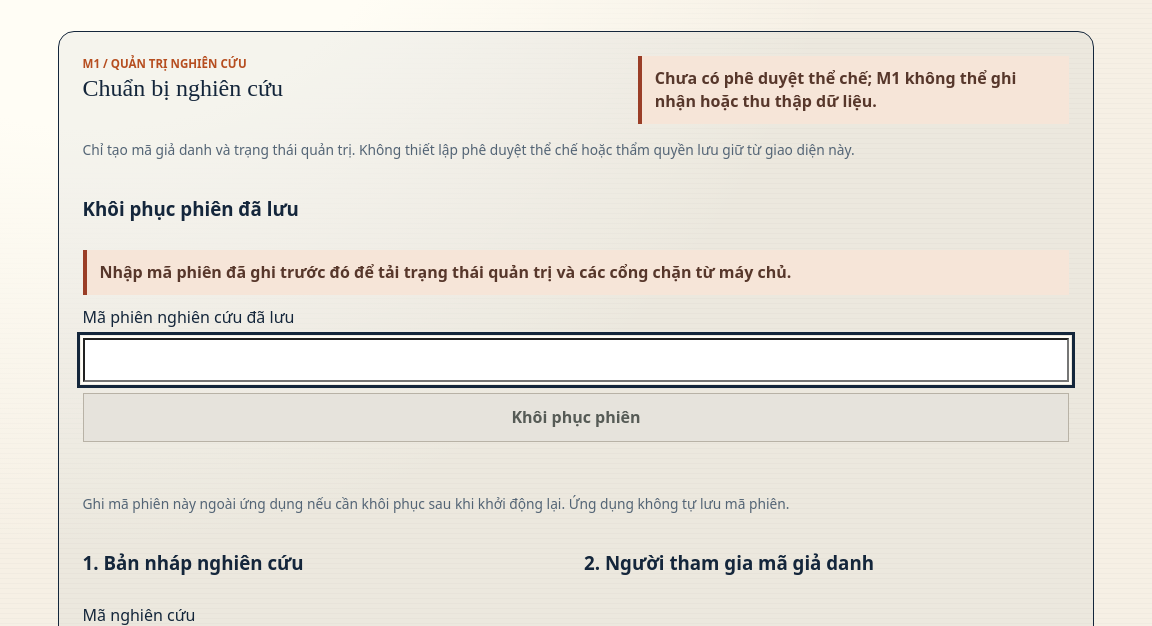
M1 persisted research-session recovery › rehydrates a saved opaque session after a fresh remount without browser persistence
(page scrolled)
Type "research-oDUliIaM2hjS_xIg" into the field labelled "Mã phiên nghiên cứu đã lưu". click: (576, 360)
box: [83,338,1069,382]
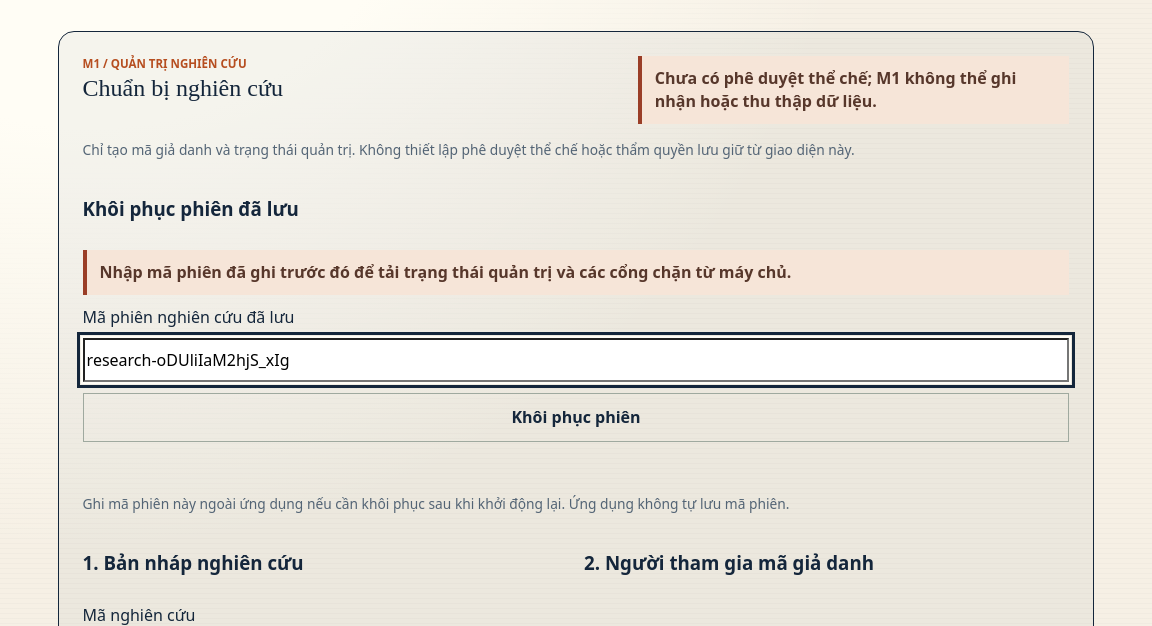
Click the button "Khôi phục phiên". click: click(576, 417)
box: [83,393,1069,442]
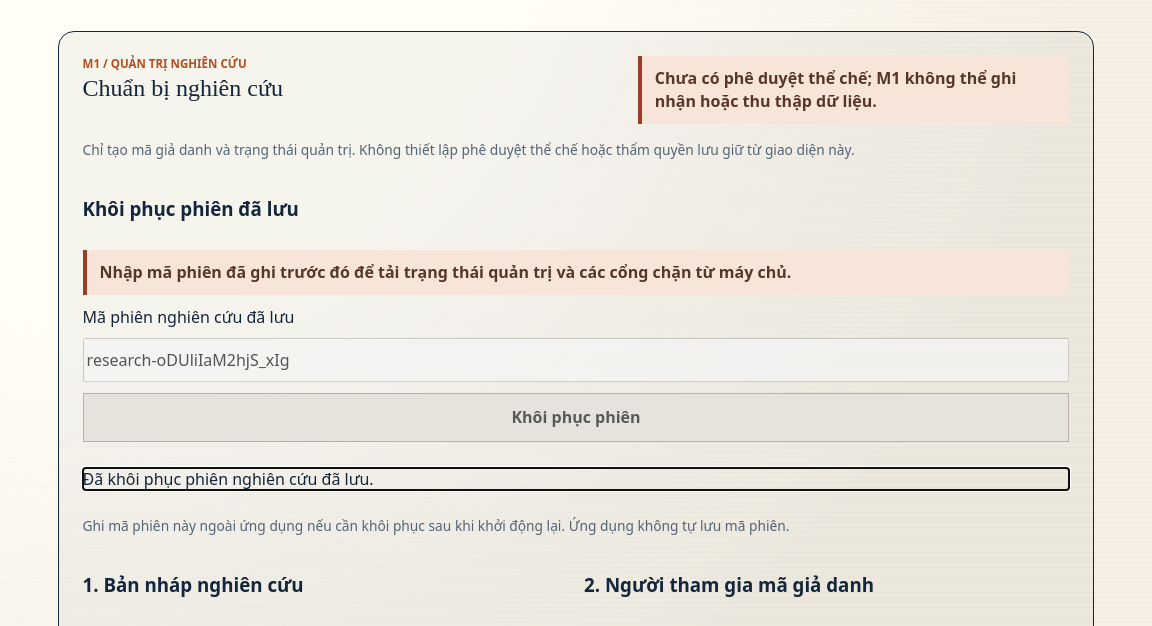
Check: the message shows "Đã khôi phục phiên nghiên cứu", box [83,468,374,490]
